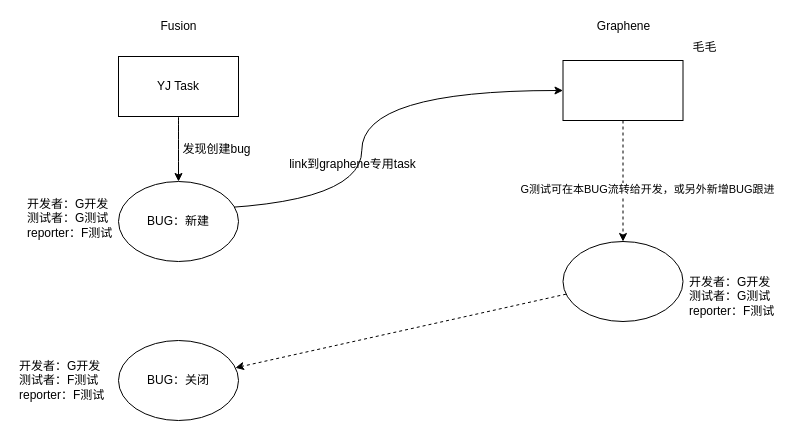
Image size: 799x438. Some labels were removed from this diagram. Here are the shapes that lost their labels. From the top down, the centre of each, then its label:
At pixel 622 90: "JIRA创建TASK".
At pixel 622 281: "BUG：验证通过".
